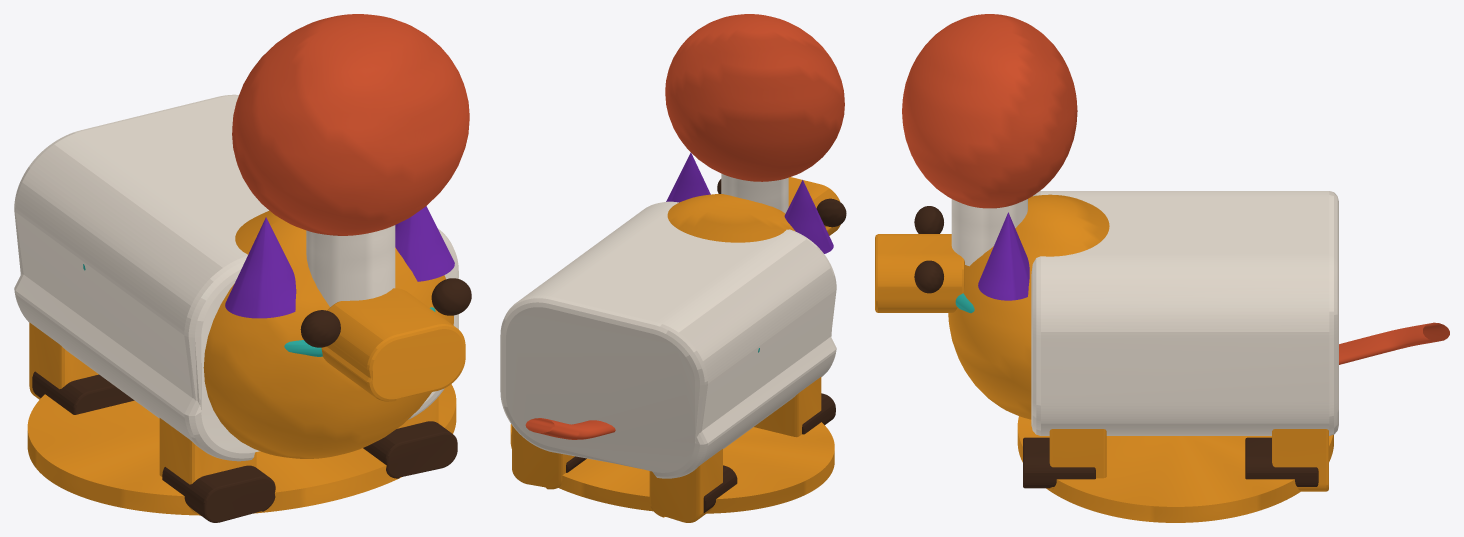
Rendered from 0888_森林动物图鉴_睫角棕榈蝮.glb.
3 views of the same model, side by side, from view 1: azimuth 30°, elevation 25°; view 2: azimuth 150°, elevation 25°; view 3: azimuth 270°, elevation 25° (orthographic). The views are drawn at different scales.
Parts seen in each view (by area): view 1: card_0888; view 2: card_0888; view 3: card_0888.
Boxes of the visible parts, bbox=[...] form: card_0888: bbox=[14, 14, 471, 522]; card_0888: bbox=[500, 14, 846, 522]; card_0888: bbox=[875, 14, 1449, 522].
Size of the model in its own units: 0.8205 by 1 by 1.24.
